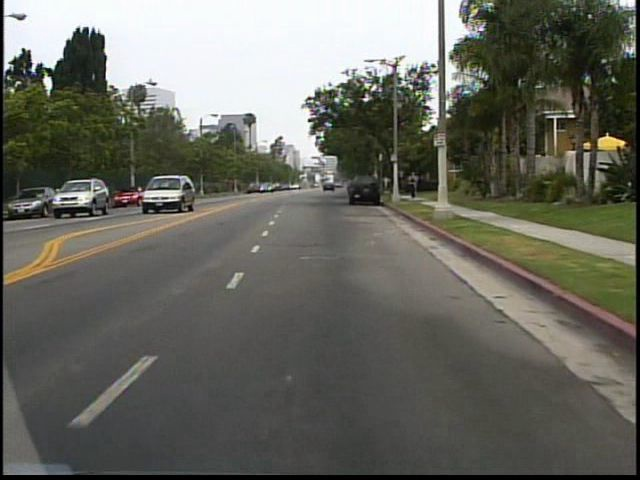person: (408, 169, 422, 201), (409, 173, 417, 202)
